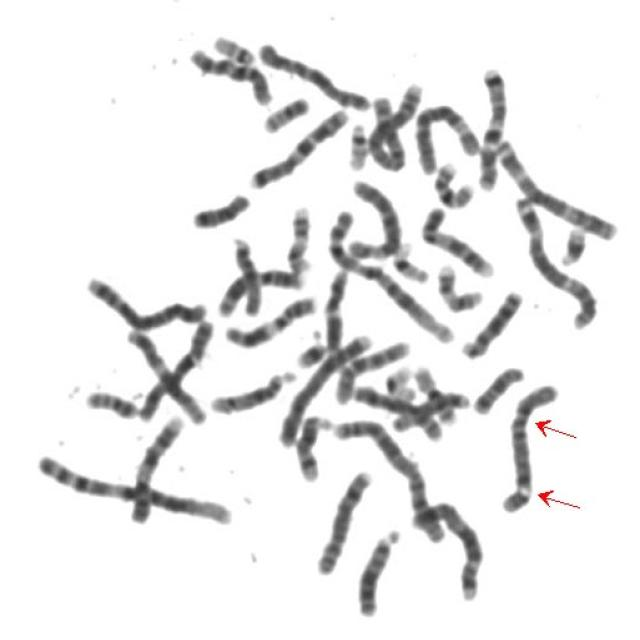A1: (321, 201, 456, 346), (29, 443, 237, 529)
A2: (326, 409, 449, 545), (362, 73, 428, 171)
A3: (489, 129, 621, 243), (508, 186, 602, 330)
B4: (271, 324, 378, 448), (494, 383, 568, 521)
B5: (404, 490, 488, 603), (80, 267, 211, 331)
C10: (182, 38, 277, 108), (328, 331, 413, 405)
C11: (218, 286, 322, 349), (212, 259, 308, 318)
C12: (120, 319, 210, 427), (318, 262, 353, 373)
C6: (409, 95, 483, 175), (346, 179, 408, 267)
C7: (242, 100, 352, 190), (472, 57, 512, 192)
C8: (309, 462, 377, 578), (347, 377, 448, 443)
C9: (122, 406, 187, 526), (414, 200, 498, 278)
D13: (456, 281, 526, 360), (351, 519, 404, 618)
D14: (203, 362, 300, 416), (288, 405, 336, 483)
D15: (385, 383, 473, 432), (226, 229, 266, 318)
E16: (408, 358, 462, 427), (428, 152, 478, 210)
E17: (432, 255, 486, 313), (280, 197, 316, 274)
E18: (468, 356, 529, 416), (186, 183, 254, 230)
F19: (385, 234, 433, 284), (378, 357, 418, 401)
F20: (257, 87, 313, 134), (79, 381, 142, 420)
G21: (553, 217, 590, 267), (291, 330, 332, 369)
G22: (206, 24, 259, 66), (342, 114, 372, 171)
X: (251, 34, 374, 112), (140, 324, 218, 426)
